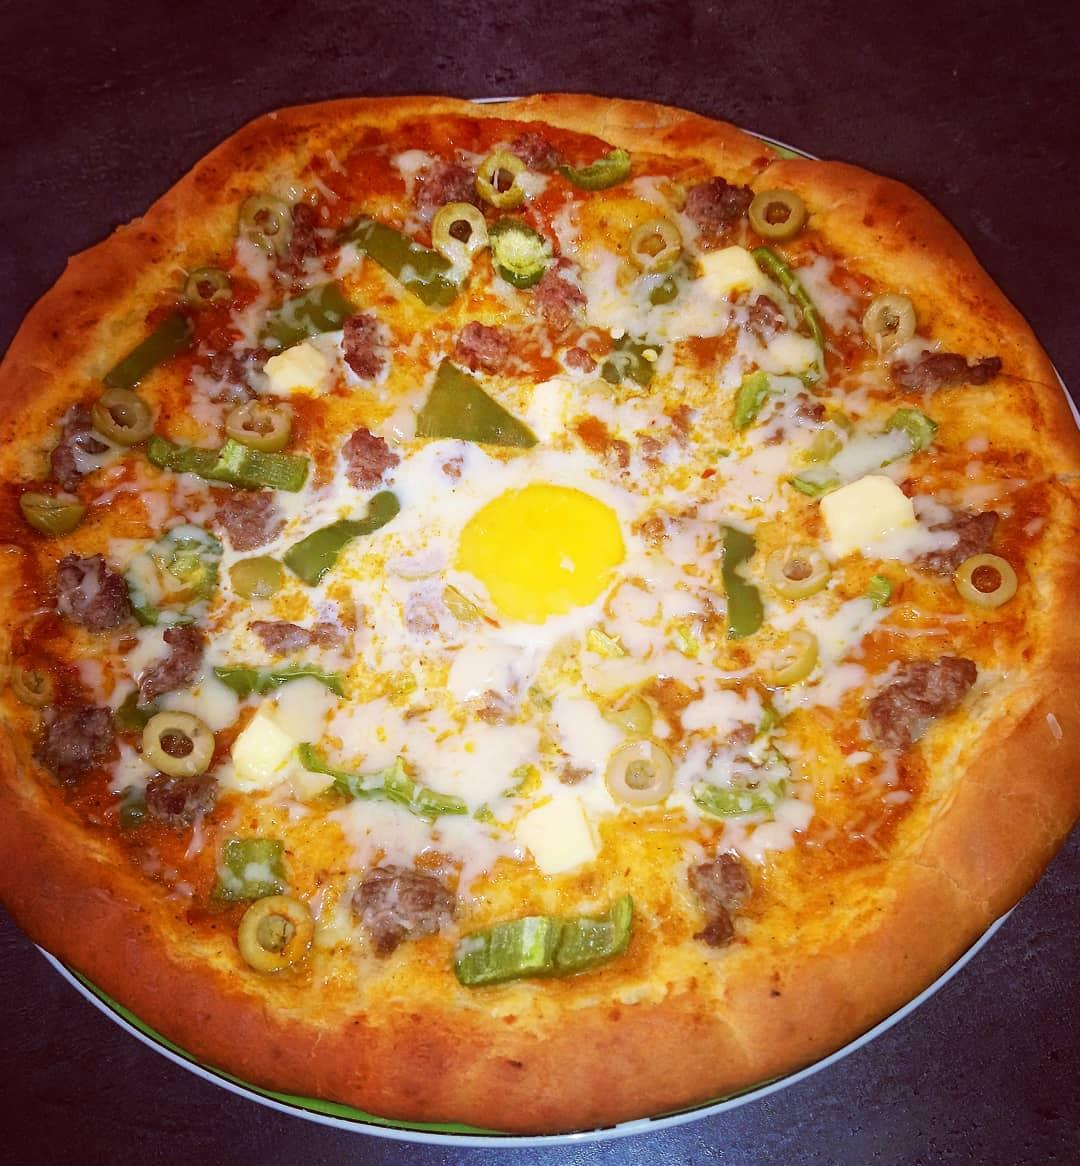Ham: (867, 649, 990, 752), (871, 340, 1018, 398), (43, 546, 143, 629), (359, 860, 444, 956), (43, 707, 125, 799), (681, 856, 752, 942), (204, 482, 292, 552), (129, 623, 211, 695), (464, 317, 547, 386), (906, 519, 991, 586), (415, 163, 493, 232), (675, 173, 757, 235), (712, 286, 791, 350), (243, 604, 342, 654), (330, 423, 394, 488), (272, 203, 324, 277), (144, 773, 214, 827), (334, 317, 381, 374), (503, 137, 570, 167)
Olives: (235, 901, 304, 977), (140, 709, 224, 772), (751, 621, 824, 689), (600, 734, 672, 795), (1, 489, 92, 535), (225, 189, 297, 246), (751, 179, 815, 241), (769, 528, 833, 589), (88, 387, 163, 439), (427, 203, 485, 267), (617, 224, 685, 278), (9, 651, 73, 705), (474, 146, 531, 203), (225, 387, 284, 440), (947, 559, 1017, 603), (865, 297, 918, 350), (185, 265, 224, 304)
Peppers: (739, 249, 841, 415), (410, 344, 545, 446), (451, 918, 636, 981), (348, 208, 461, 300), (309, 751, 467, 814), (125, 517, 244, 599), (161, 437, 326, 487), (709, 509, 768, 620), (214, 653, 353, 696)
Pizza: (0, 101, 1073, 1122)
